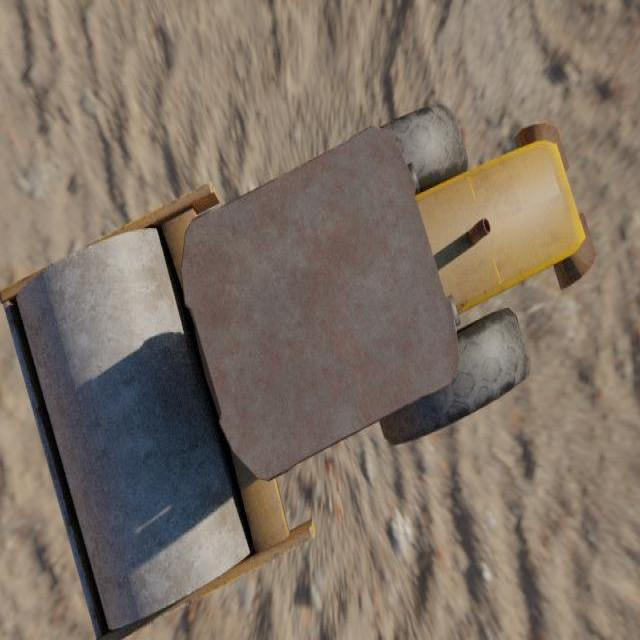Roller: (0, 102, 598, 640)
